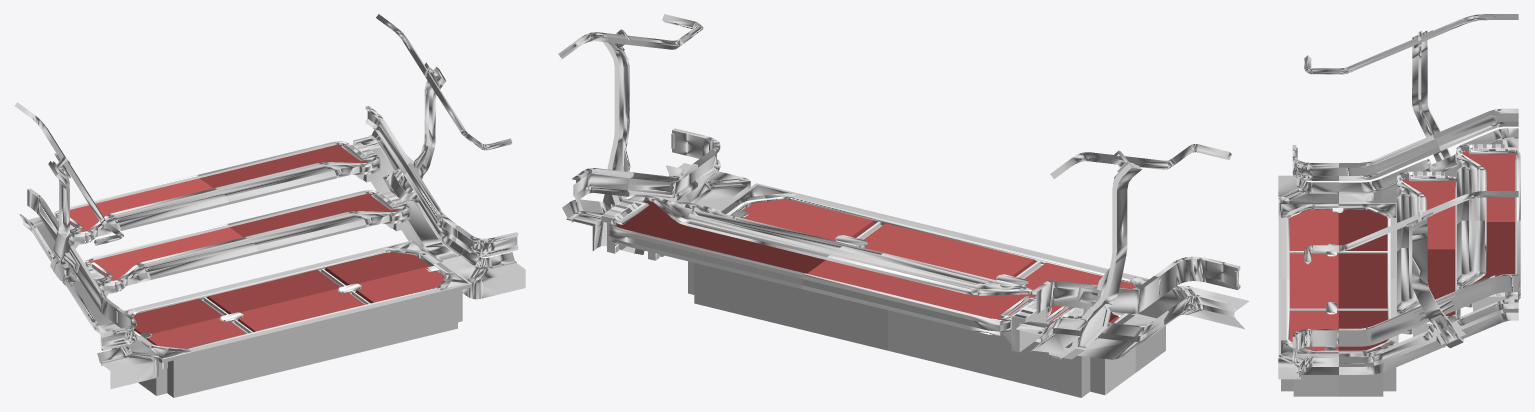
File: ind_stairs_a_1step_a.glb
3 renders of one model, left to right at view 1: azimuth 30°, elevation 25°; view 2: azimuth 150°, elevation 25°; view 3: azimuth 270°, elevation 25°, orthographic. The views are drawn at different scales.
Bounding box in the file's own units: 4.01 × 2.02 × 2.02.
